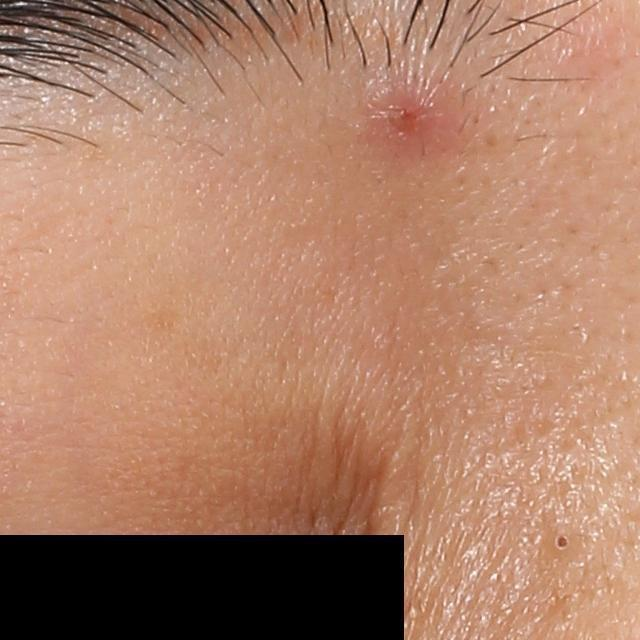comedo: (540, 517, 581, 562)
